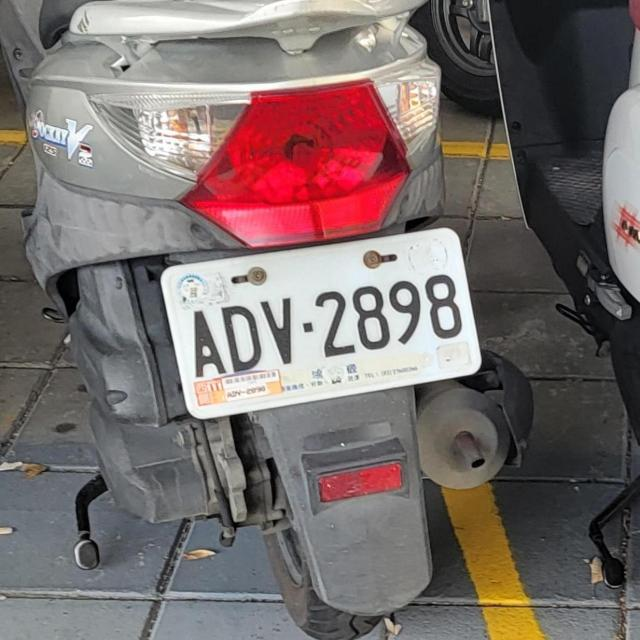W: (154, 216, 490, 422)
